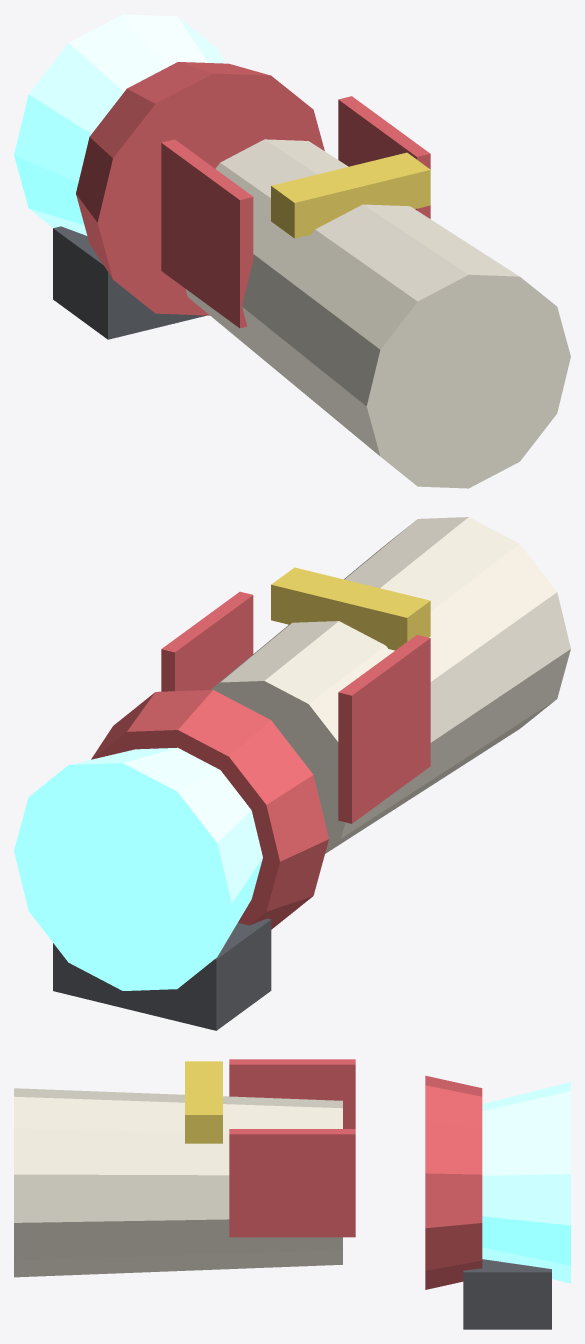
Rendered from lawn-mowing-simulator-kit-jet-booster-3ae000ad__27367.glb.
3 views of the same model, one above another, from view 1: azimuth 30°, elevation 25°; view 2: azimuth 150°, elevation 25°; view 3: azimuth 270°, elevation 25° (orthographic). The views are drawn at different scales.
Visible parts, largest first — view 1: jet-booster; view 2: jet-booster; view 3: jet-booster.
Part boxes in pixels (x1,y1,x2,y2): jet-booster: (14, 14, 570, 488); jet-booster: (14, 517, 570, 1030); jet-booster: (14, 1059, 570, 1329).
Bounding box in the file's own units: 0.34 × 0.37 × 0.88.
